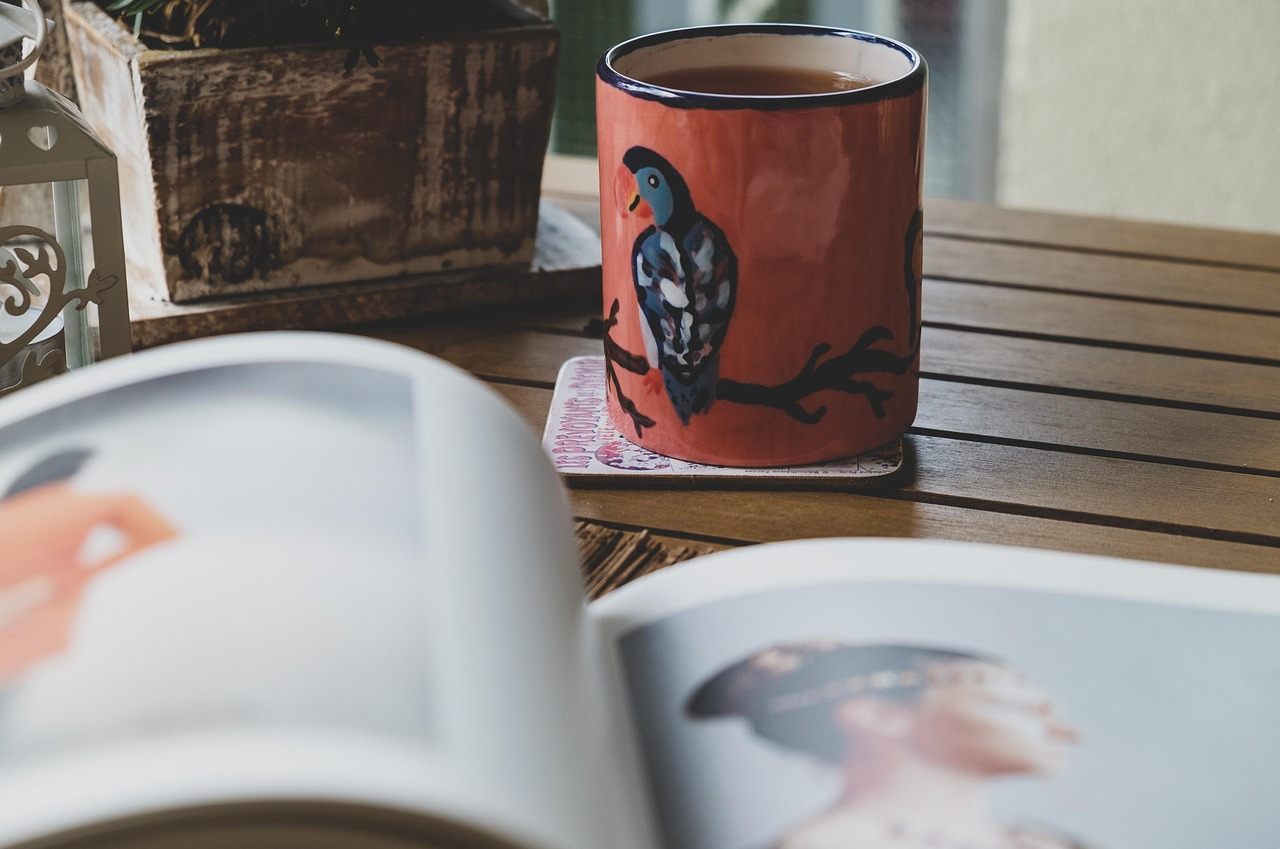mug: (575, 27, 971, 476)
